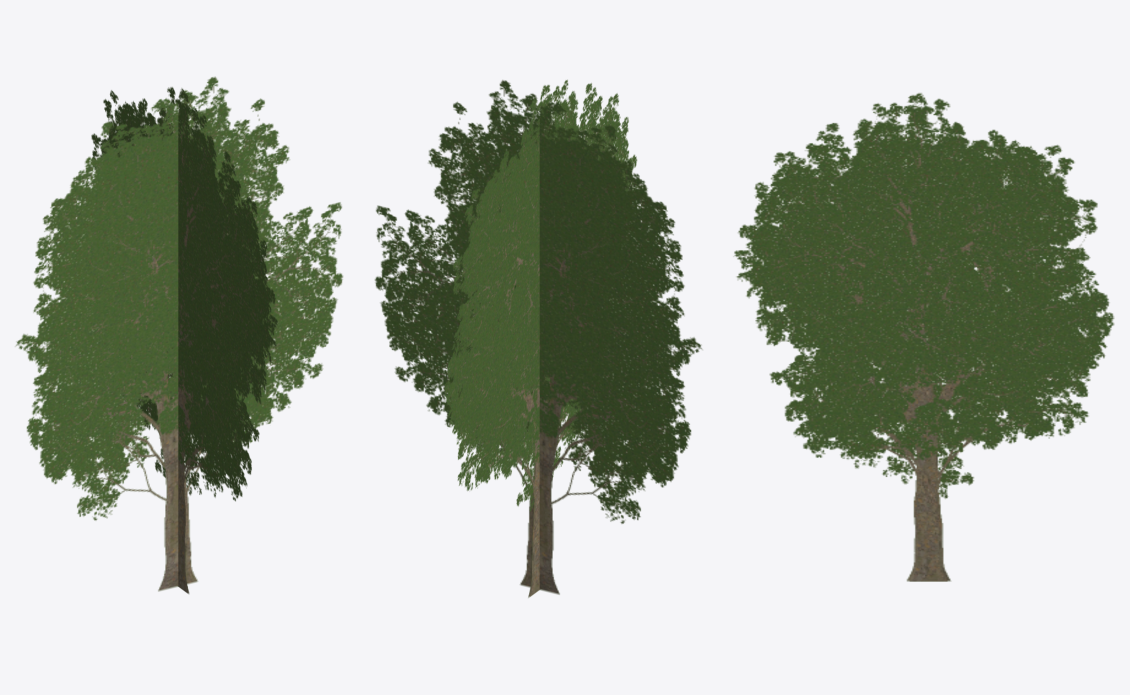
Rendered from PlatanusOccidentalis.glb.
3 renders of one model, left to right at view 1: azimuth 30°, elevation 25°; view 2: azimuth 150°, elevation 25°; view 3: azimuth 270°, elevation 25°, orthographic. The views are drawn at different scales.
Visible parts, largest first — view 1: mesh__mat_billboard_6; view 2: mesh__mat_billboard_6; view 3: mesh__mat_billboard_6.
Part boxes in pixels (bbox=[...]): mesh__mat_billboard_6: bbox=[15, 76, 342, 593]; mesh__mat_billboard_6: bbox=[375, 79, 702, 597]; mesh__mat_billboard_6: bbox=[733, 93, 1114, 581].
Size of the model in its own units: 19.56 by 29.59 by 20.18.
Materials: 1 (1 with a texture image).
